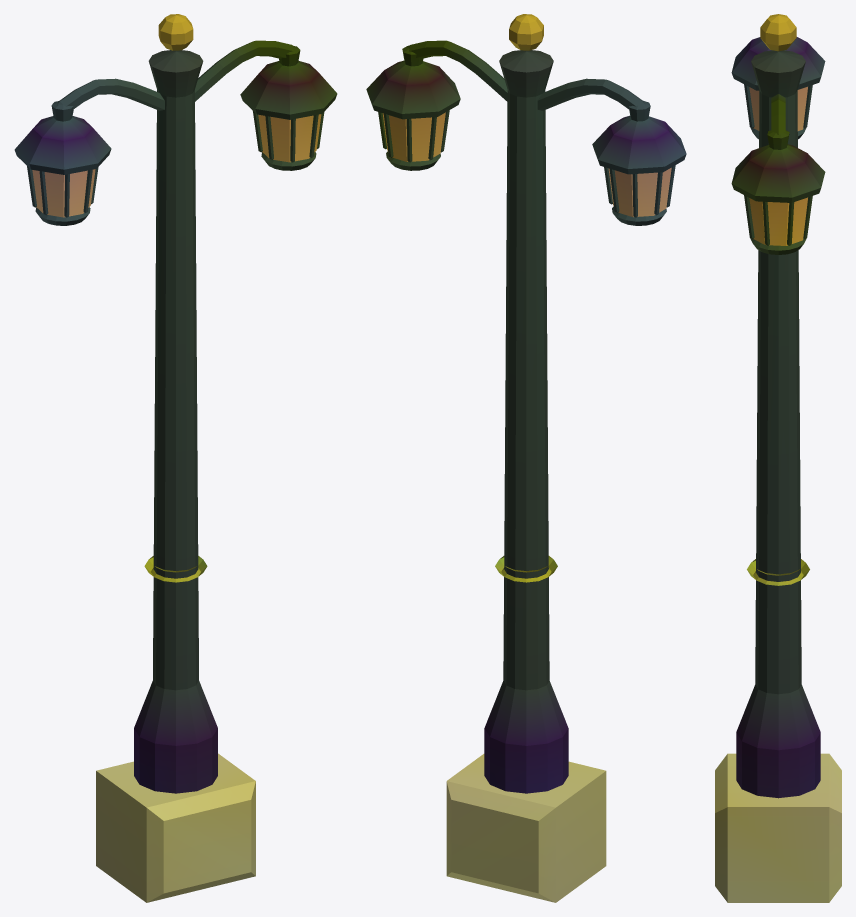
The model's file is GS_StreetLamp.glb.
3 renders of one model, left to right at view 1: azimuth 30°, elevation 25°; view 2: azimuth 150°, elevation 25°; view 3: azimuth 270°, elevation 25°, orthographic.
Parts seen in each view (by area): view 1: GS_StreetLamp; view 2: GS_StreetLamp; view 3: GS_StreetLamp.
Boxes of the visible parts, left/top/right/bottom form: GS_StreetLamp: left=14, top=14, right=337, bottom=902; GS_StreetLamp: left=366, top=14, right=686, bottom=902; GS_StreetLamp: left=715, top=14, right=841, bottom=902.
Size of the model in its own units: 1.68 by 4.49 by 0.6.
